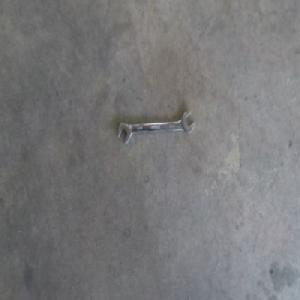Wrench: (115, 116, 197, 152)
